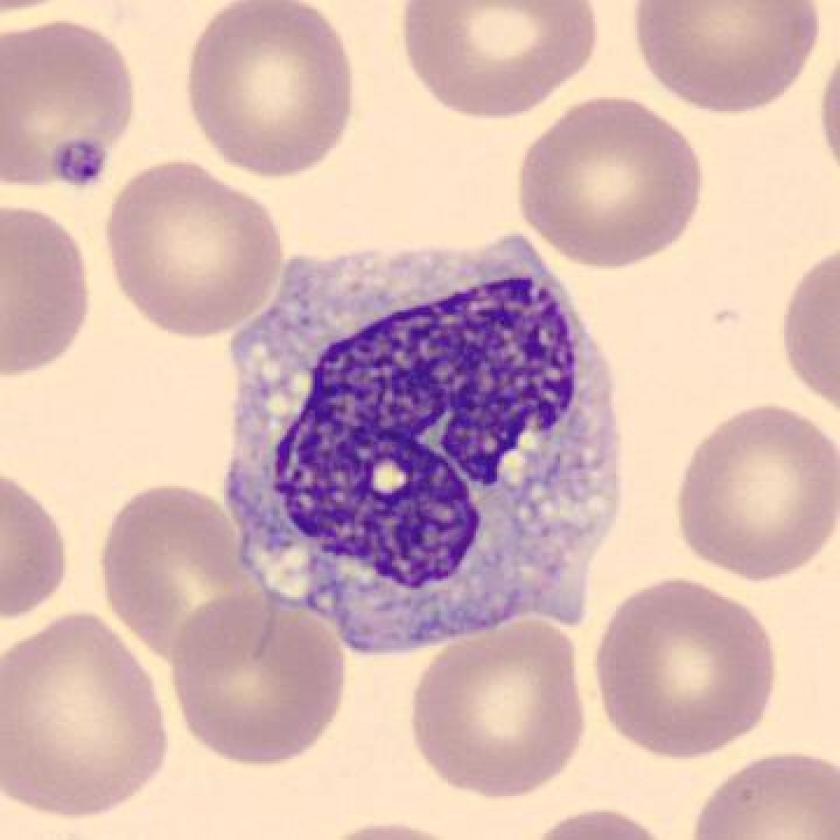monocyte: (195, 214, 636, 686)
